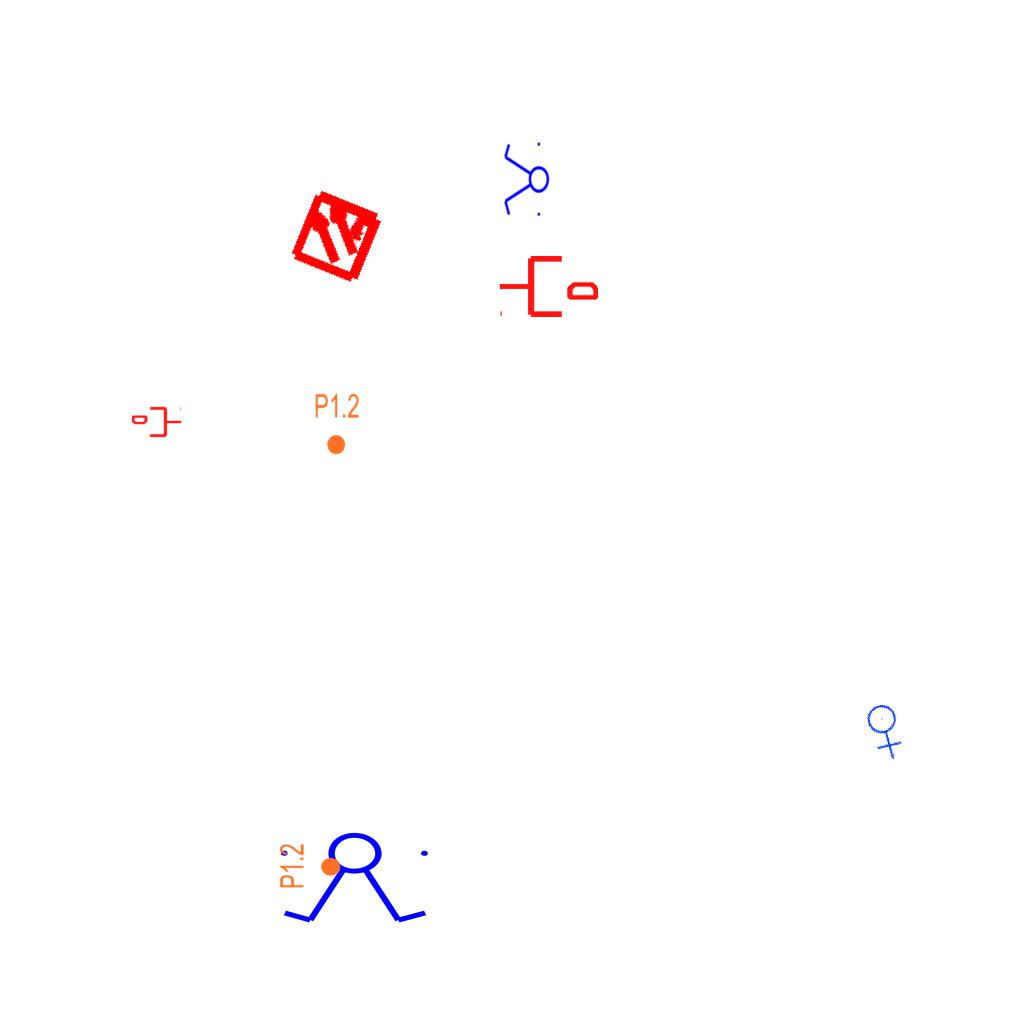Datenanschluss_einfach: (498, 252, 598, 321), (132, 405, 182, 439)
Downlight_LED_Einbauleuchten_Flur: (314, 392, 360, 456), (278, 843, 342, 889)
Elektroanschluss_allgemein_230V_Geraeteanschlussdose_230V: (854, 695, 919, 762)
OT_Multisensormelder_(Kombination_RMO_WMD): (263, 160, 412, 309)
Serienschalter: (272, 831, 440, 927), (502, 138, 550, 222)
